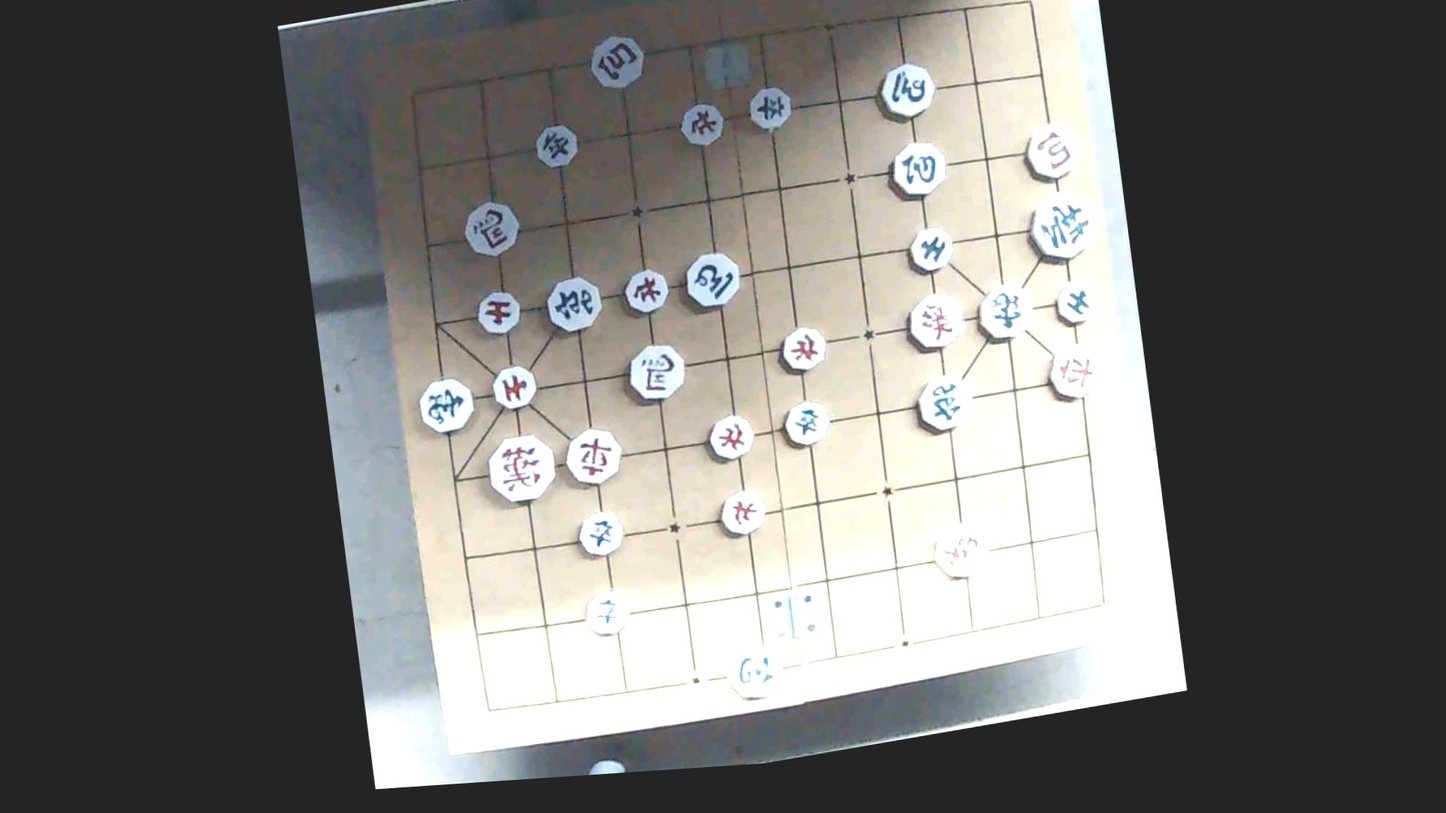cha_green: (547, 274, 604, 334), (920, 371, 973, 432)
cha_red: (1045, 340, 1103, 403), (566, 425, 622, 490)
jol_green: (584, 586, 632, 639), (749, 84, 797, 132), (577, 509, 624, 557), (782, 402, 828, 451), (535, 122, 577, 169)
jol_red: (714, 484, 766, 537), (706, 409, 754, 465), (624, 263, 671, 315), (780, 323, 826, 375), (681, 99, 724, 148)
ma_green: (683, 245, 740, 315), (880, 57, 935, 126)
ma_red: (457, 193, 522, 263), (624, 340, 685, 404)
po_green: (723, 638, 783, 702), (890, 136, 946, 204)
po_red: (1024, 119, 1081, 183), (589, 31, 645, 94)
sa_green: (908, 221, 953, 277), (1054, 278, 1101, 327)
sa_red: (490, 357, 538, 416), (475, 288, 525, 338)
sang_green: (417, 371, 477, 436), (978, 279, 1033, 342)
sang_red: (906, 288, 963, 355), (930, 519, 986, 583)
wang_green: (1030, 186, 1097, 268)
wang_red: (483, 430, 554, 510)
